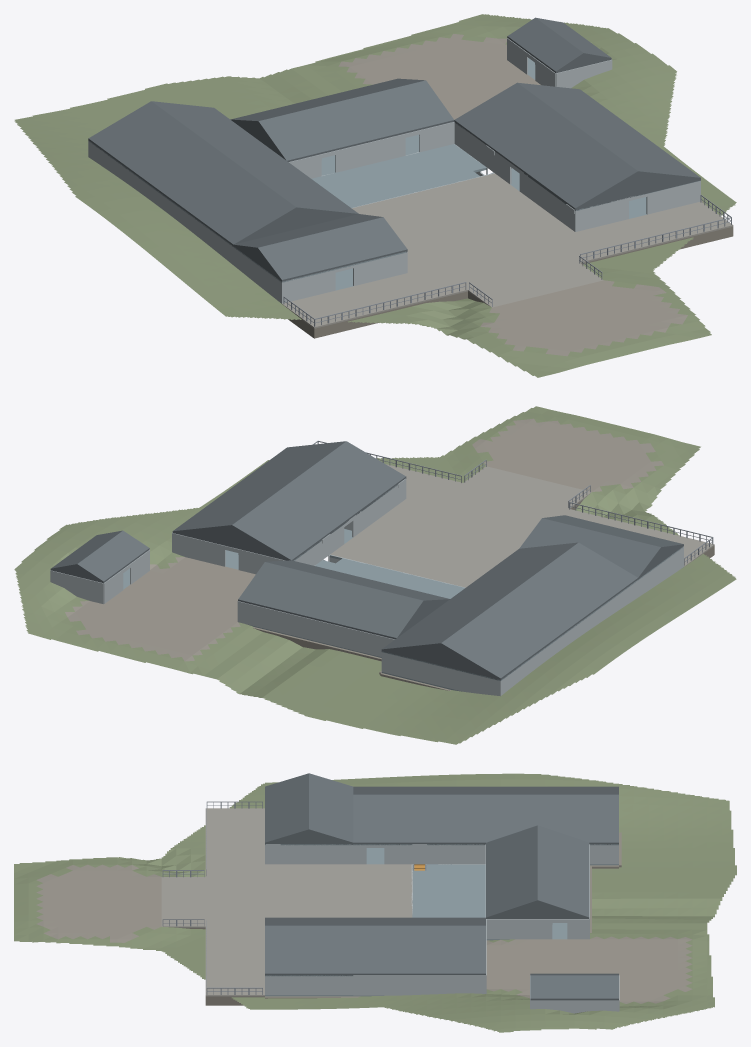
Rendered from saved-earthworks.glb.
3 renders of one model, top to bottom at view 1: azimuth 30°, elevation 25°; view 2: azimuth 150°, elevation 25°; view 3: azimuth 270°, elevation 25°, orthographic. The views are drawn at different scales.
Visible parts, largest first — view 1: Saved editor geographic earthworks WLD-08, WLD-08 compound service forecourt structural surface region0, WLD-08 raised courtyard terrace structural surface region0, dormitory-and-mess roof west, radio-records roof south, laboratory roof west, generator-building roof west, Entrance rebuild Research courtyard structural deck region0, stores roof south, dormitory-and-mess roof east, laboratory roof east, generator-building roof east (+21 smaller); view 2: Saved editor geographic earthworks WLD-08, WLD-08 raised courtyard terrace structural surface region0, dormitory-and-mess roof west, radio-records roof north, WLD-08 compound service forecourt structural surface region0, generator-building roof west, laboratory roof west, dormitory-and-mess roof east, stores roof north, generator-building roof east, laboratory roof east, WLD-08 arrival apron structural surface region0 (+18 smaller); view 3: Saved editor geographic earthworks WLD-08, WLD-08 compound service forecourt structural surface region0, dormitory-and-mess roof east, WLD-08 raised courtyard terrace structural surface region0, laboratory roof east, generator-building roof east, radio-records roof north, radio-records roof south, Entrance rebuild Research courtyard structural deck region0, Wall dorm E, stores roof north, stores roof south (+14 smaller).
Part boxes in pixels (<box>): Saved editor geographic earthworks WLD-08: <box>14,14,736,377</box>; WLD-08 compound service forecourt structural surface region0: <box>282,201,733,328</box>; WLD-08 raised courtyard terrace structural surface region0: <box>352,173,574,272</box>; dormitory-and-mess roof west: <box>454,83,637,209</box>; radio-records roof south: <box>258,80,454,161</box>; laboratory roof west: <box>161,154,296,245</box>; generator-building roof west: <box>88,101,223,192</box>; Entrance rebuild Research courtyard structural deck region0: <box>311,144,493,207</box>; stores roof south: <box>257,217,407,281</box>; dormitory-and-mess roof east: <box>517,82,700,178</box>; laboratory roof east: <box>224,154,358,214</box>; generator-building roof east: <box>152,101,286,160</box>; Saved editor geographic earthworks WLD-08: <box>14,406,736,744</box>; WLD-08 raised courtyard terrace structural surface region0: <box>330,499,532,587</box>; dormitory-and-mess roof west: <box>232,441,406,560</box>; radio-records roof north: <box>238,562,423,639</box>; WLD-08 compound service forecourt structural surface region0: <box>385,464,714,566</box>; generator-building roof west: <box>441,593,569,679</box>; laboratory roof west: <box>510,542,638,629</box>; dormitory-and-mess roof east: <box>172,441,345,532</box>; stores roof north: <box>519,518,660,578</box>; generator-building roof east: <box>381,593,508,650</box>; laboratory roof east: <box>451,542,577,598</box>; WLD-08 arrival apron structural surface region0: <box>463,466,591,508</box>; Saved editor geographic earthworks WLD-08: <box>14,773,736,1032</box>; WLD-08 compound service forecourt structural surface region0: <box>205,808,264,996</box>; dormitory-and-mess roof east: <box>265,925,485,974</box>; WLD-08 raised courtyard terrace structural surface region0: <box>265,864,412,917</box>; laboratory roof east: <box>353,794,485,844</box>; generator-building roof east: <box>486,794,618,844</box>; radio-records roof north: <box>537,825,589,918</box>; radio-records roof south: <box>486,825,537,918</box>; Entrance rebuild Research courtyard structural deck region0: <box>412,864,485,917</box>; Wall dorm E: <box>353,975,485,995</box>; stores roof north: <box>309,773,353,843</box>; stores roof south: <box>265,773,308,843</box>.
Bounding box in the file's own units: 83 × 9.24 × 98.
43 materials, 20 textured.
